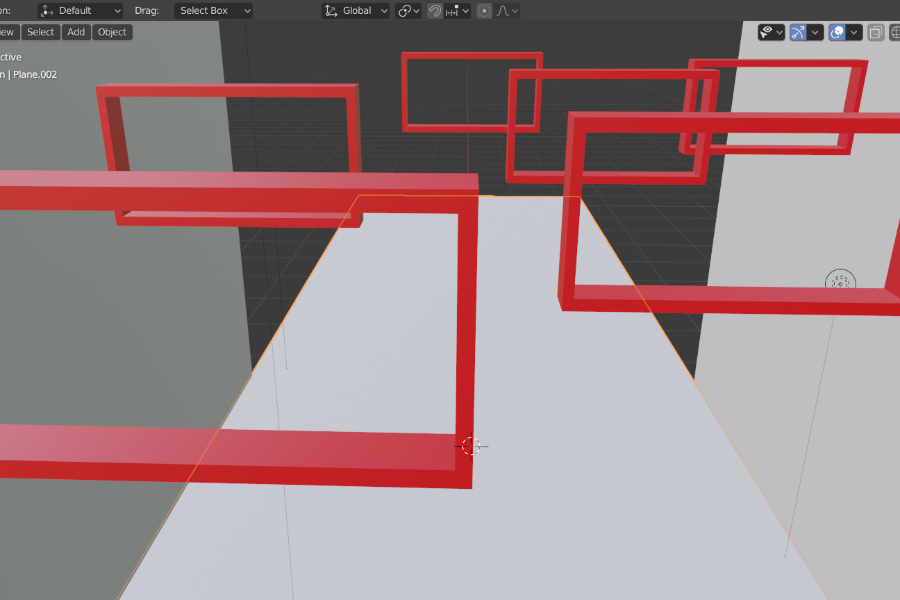GATE: (1, 168, 480, 487), (566, 107, 900, 326), (92, 81, 368, 236), (505, 69, 720, 187), (687, 54, 871, 163), (395, 44, 546, 136)
